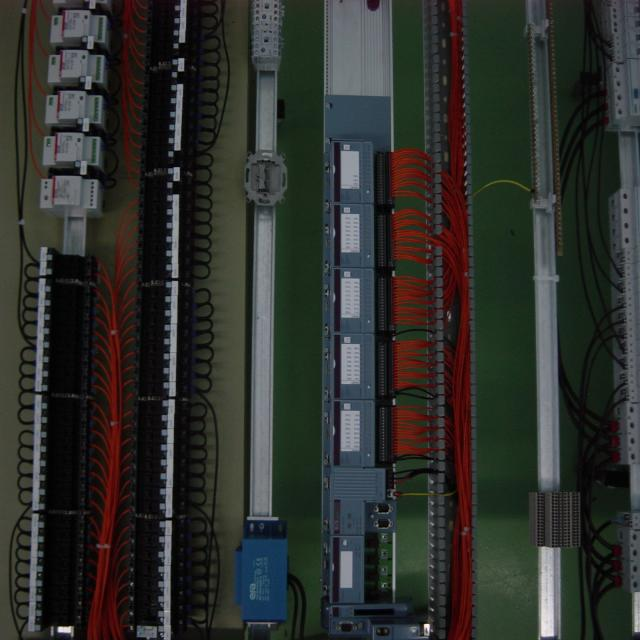Dimmer: (41, 175, 101, 212), (43, 135, 100, 168), (46, 52, 104, 84), (46, 94, 104, 124), (52, 14, 108, 43)
SPS-System -Steuerungskomponente-: (324, 471, 385, 640), (322, 397, 391, 467), (322, 265, 391, 334), (323, 333, 393, 398), (322, 139, 387, 206), (322, 206, 390, 266)
